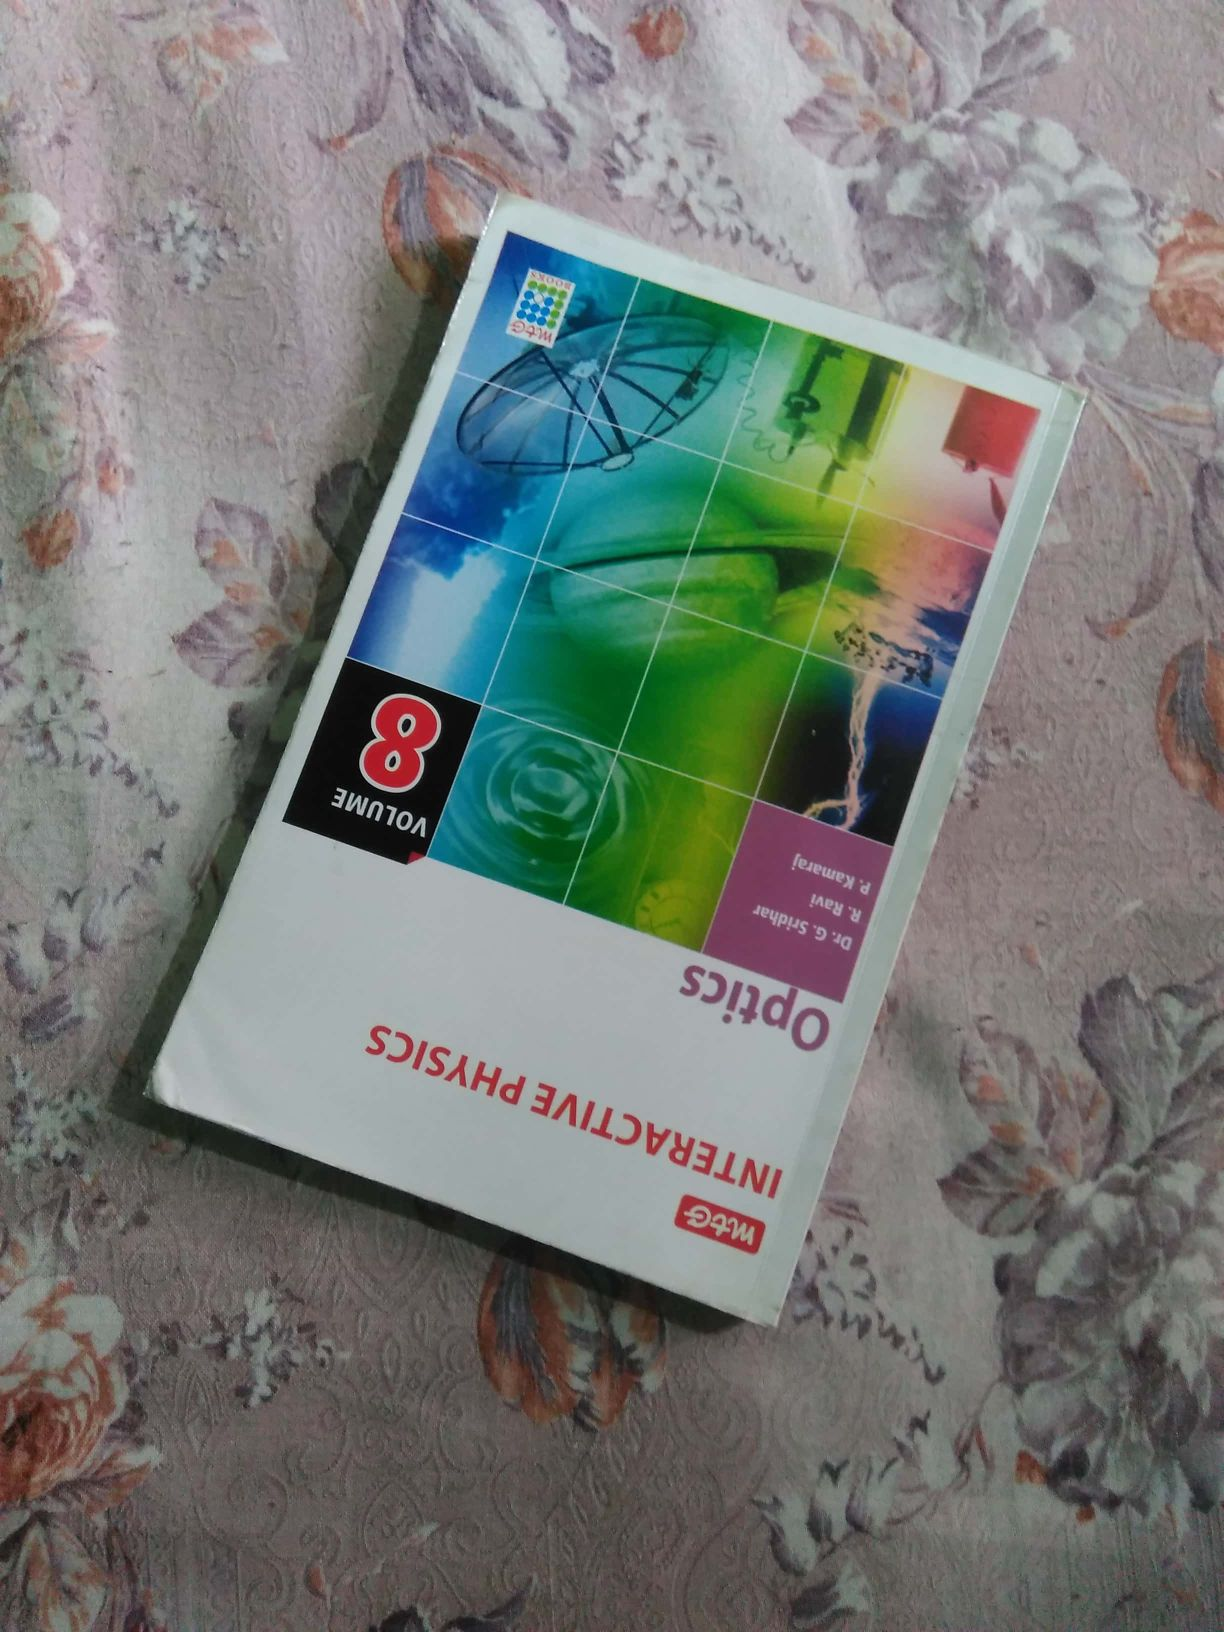optics: (181, 212, 1034, 1312)
